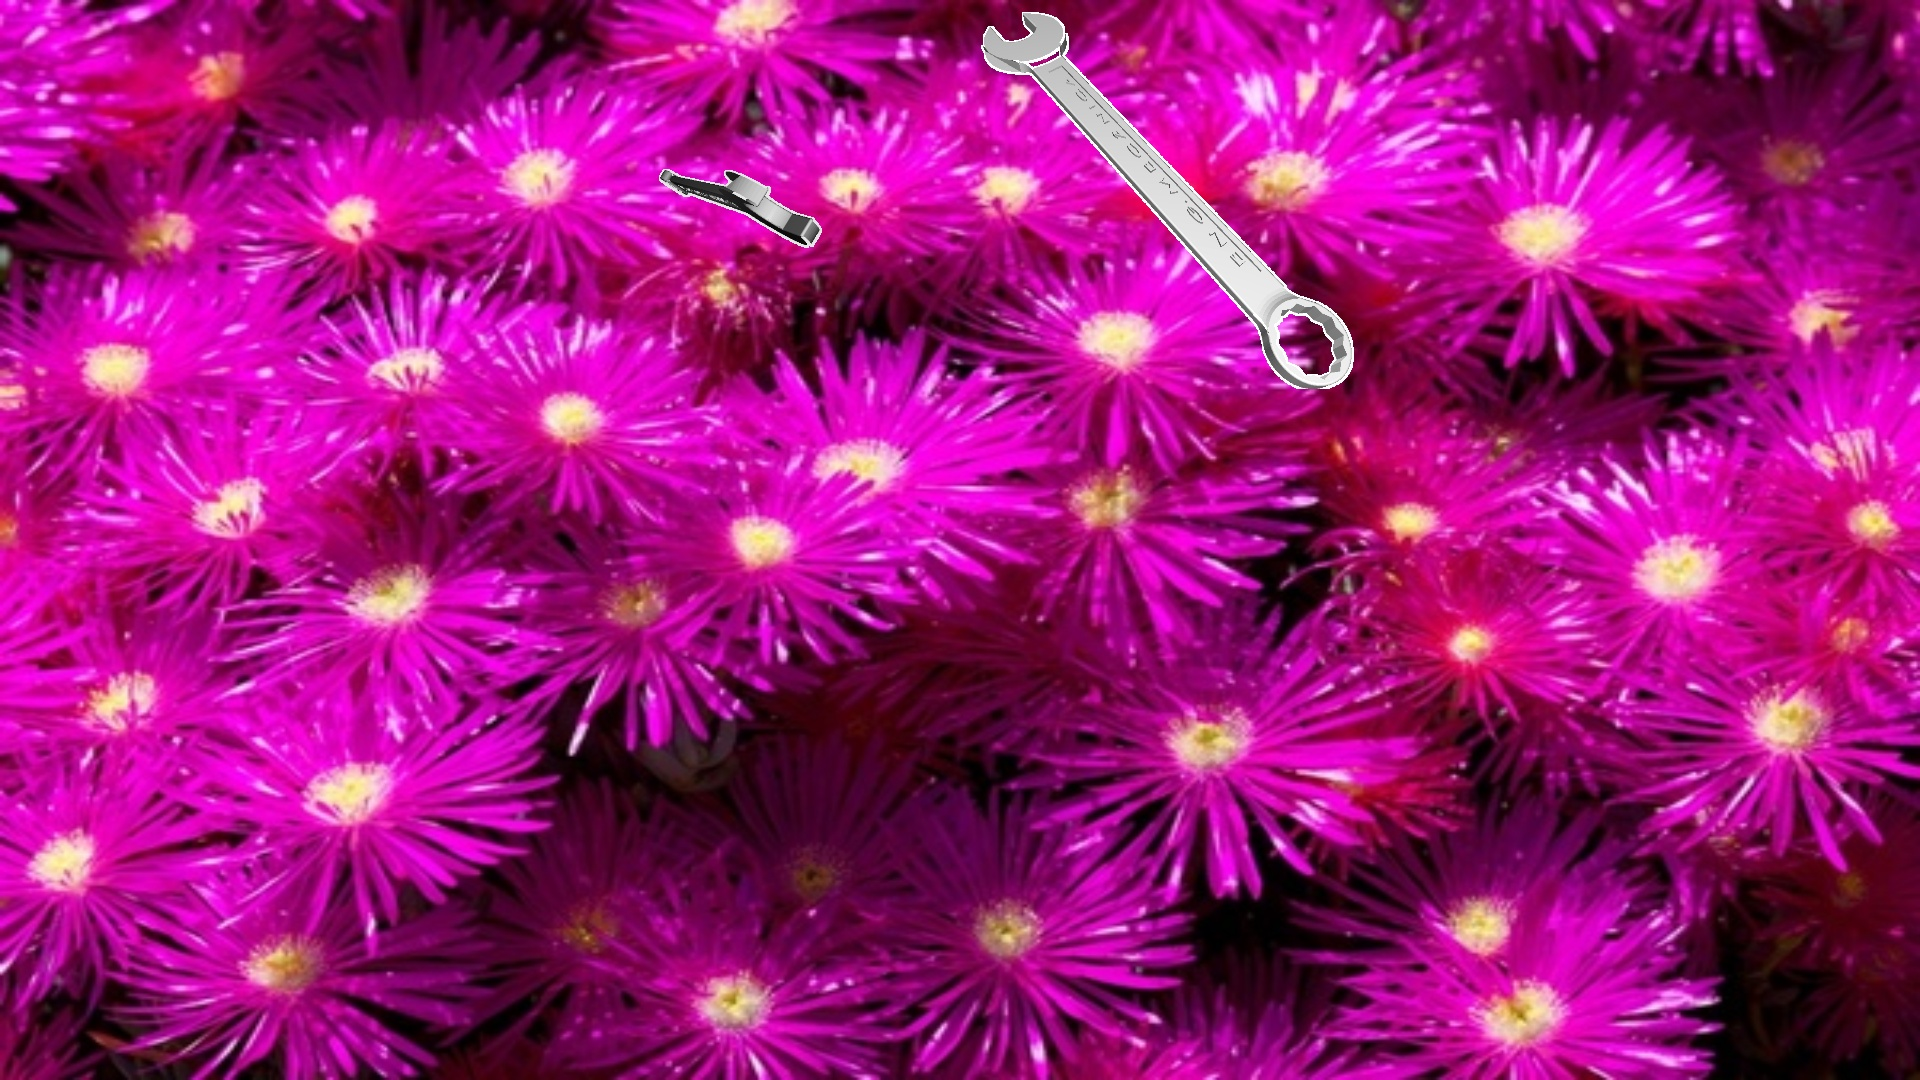Mixed Key: (981, 12, 1353, 388), (659, 169, 822, 247)
